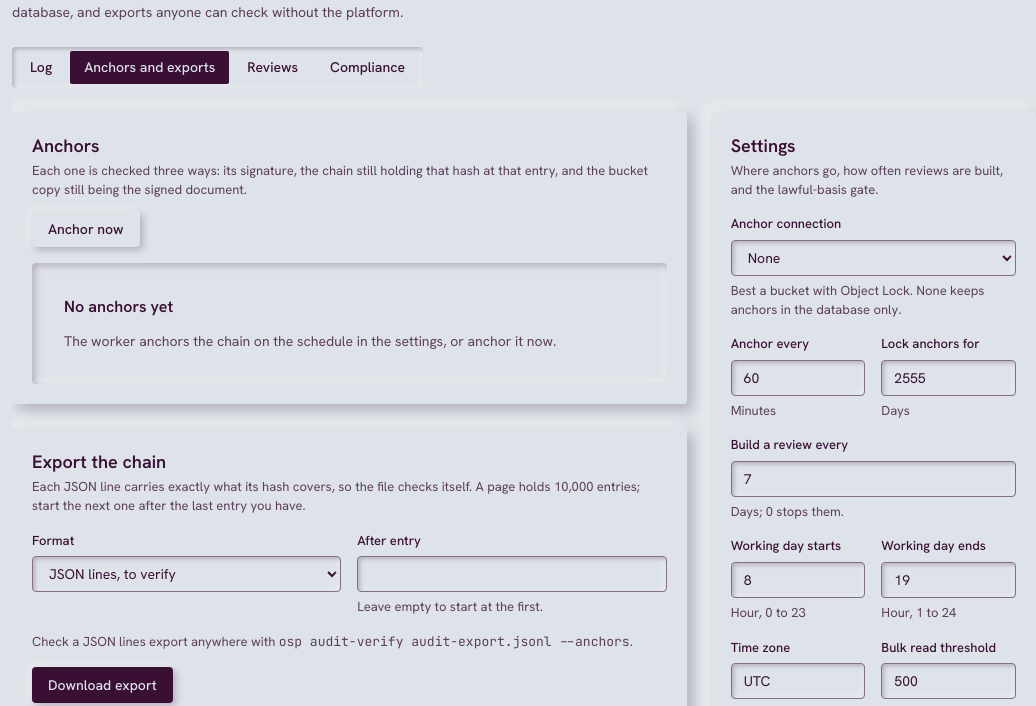
Test: EvidenceScreen › will not save a working day that ends before it starts
Replace the text in the number field labelled "Working day starts" with "20": (798, 580) [731,562,865,598]
(page scrolled)
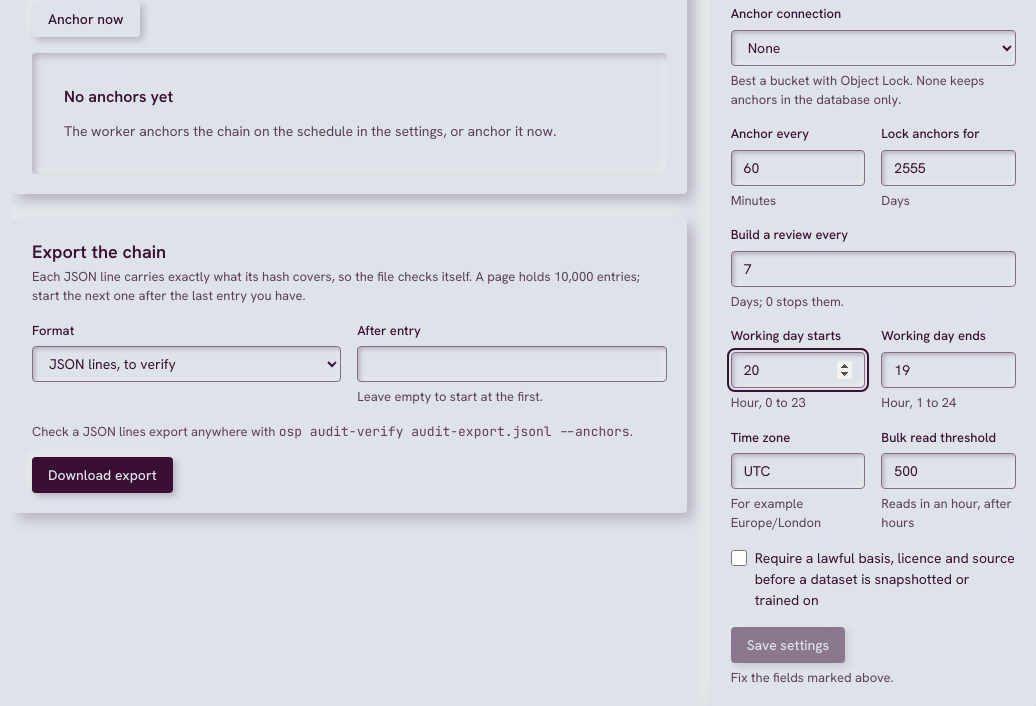
Expected: the button "Save settings" is disabled, [731,627,845,663]
Expected: the text "Fix the fields marked above." is shown, [731,669,894,688]
